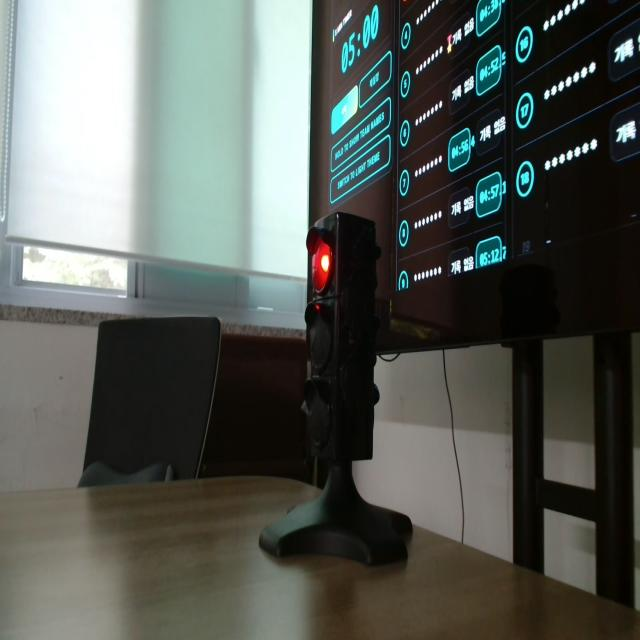red_light: (312, 236, 331, 293), (320, 253, 330, 273)
